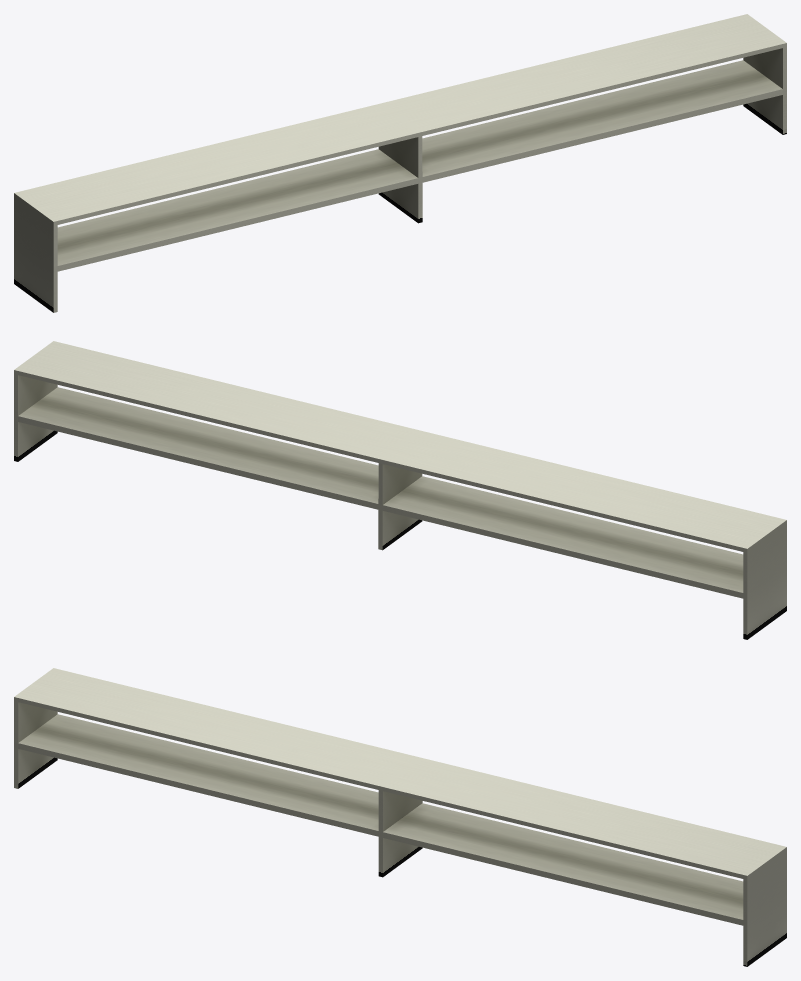
The model's file is prateleira.obj.
3 views of the same model, one above another, from view 1: azimuth 30°, elevation 25°; view 2: azimuth 150°, elevation 25°; view 3: azimuth 330°, elevation 25° (orthographic).
Parts seen in each view (by area): view 1: Cube.029_Cube.018; view 2: Cube.029_Cube.018; view 3: Cube.029_Cube.018.
Part boxes in pixels (x1,y1,x2,y2): Cube.029_Cube.018: (14, 14, 786, 312); Cube.029_Cube.018: (14, 341, 786, 639); Cube.029_Cube.018: (14, 668, 786, 966).
Bounding box in the file's own units: 27.54 × 3.27 × 2.57.
Materials: 1 (1 with a texture image).
